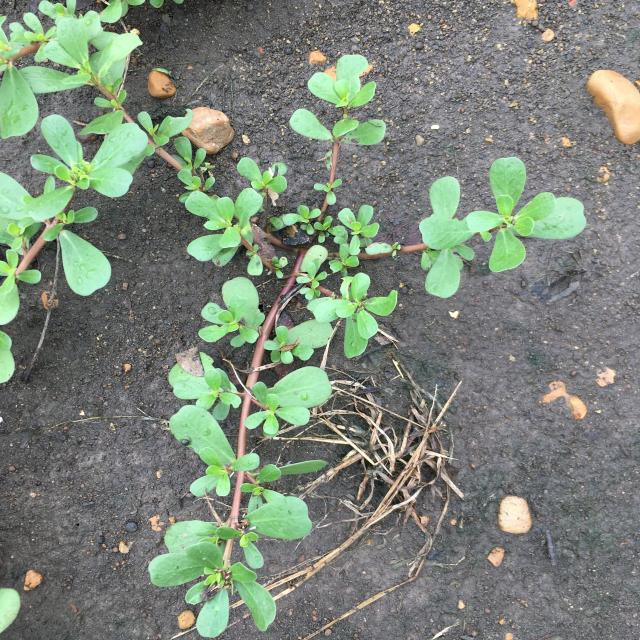Purslane: (1, 0, 586, 638)
